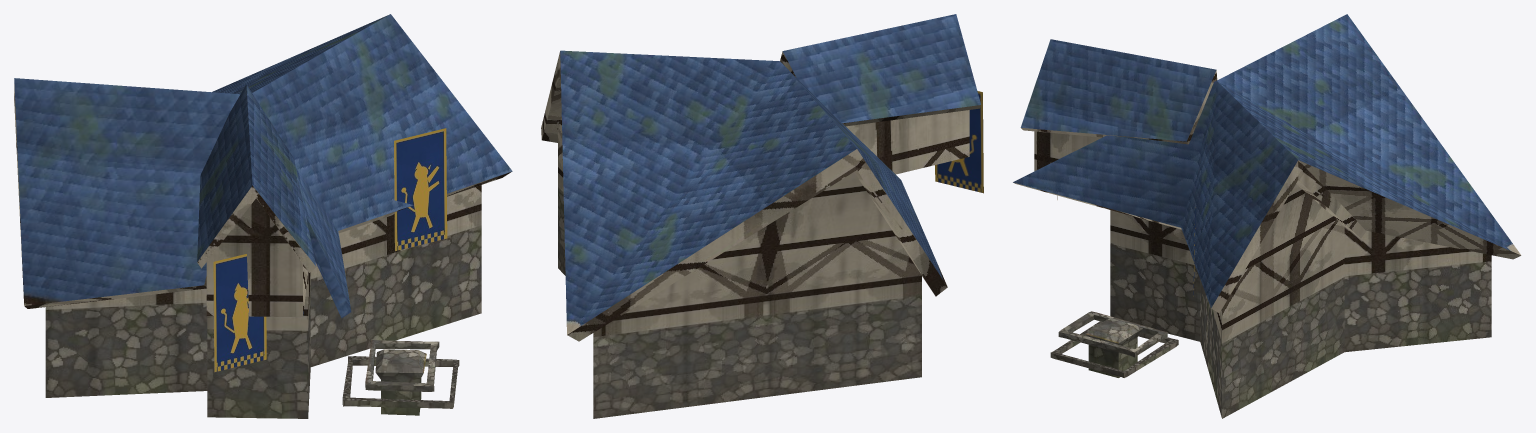
Rendered from house_15_card.glb.
3 views of the same model, side by side, from view 1: azimuth 30°, elevation 25°; view 2: azimuth 150°, elevation 25°; view 3: azimuth 270°, elevation 25° (orthographic). The views are drawn at different scales.
Visible parts, largest first — view 1: house_15_game_card; view 2: house_15_game_card; view 3: house_15_game_card.
Part boxes in pixels (x1,y1,x2,y2): house_15_game_card: (14, 14, 512, 418); house_15_game_card: (541, 14, 983, 418); house_15_game_card: (1013, 14, 1521, 418).
Size of the model in its own units: 12.38 by 7.69 by 13.7.
Materials: 1 (1 with a texture image).
